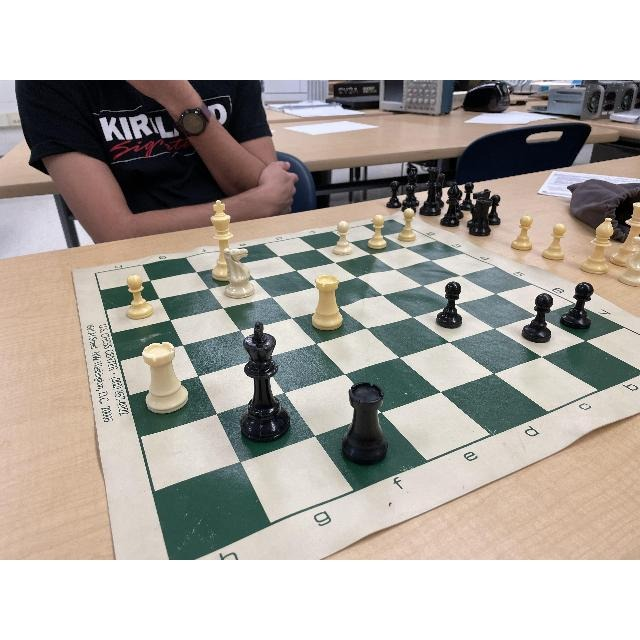black-king: (239, 318, 291, 444)
black-pawn: (561, 281, 597, 333), (521, 294, 556, 344), (435, 279, 466, 329)
black-rook: (340, 382, 392, 466)
white-king: (211, 199, 241, 280)
white-knight: (223, 246, 256, 298)
white-pawn: (125, 273, 155, 321), (332, 220, 356, 256), (367, 214, 389, 251), (399, 208, 417, 244)
white-rook: (143, 339, 185, 419), (312, 275, 346, 331)
